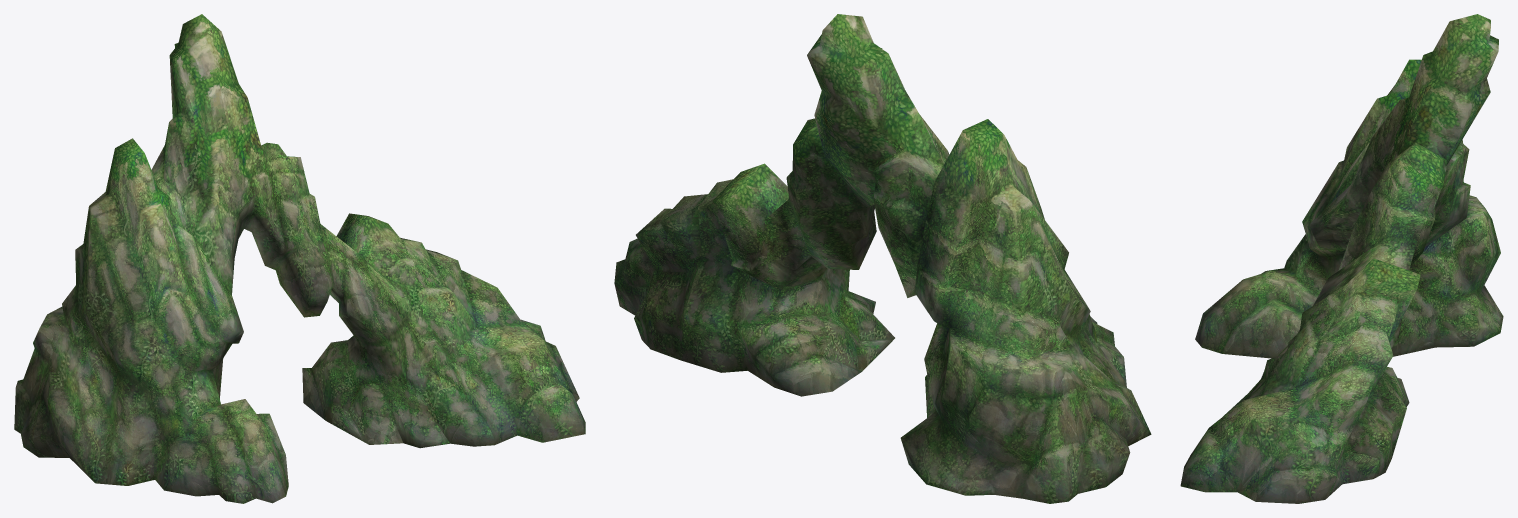
Rendered from stone44.FBX.
3 views of the same model, side by side, from view 1: azimuth 30°, elevation 25°; view 2: azimuth 150°, elevation 25°; view 3: azimuth 270°, elevation 25° (orthographic). The views are drawn at different scales.
Parts seen in each view (by area): view 1: stone44; view 2: stone44; view 3: stone44.
Part boxes in pixels (x1=…): stone44: x1=14, y1=14, x2=585, y2=503; stone44: x1=614, y1=14, x2=1151, y2=503; stone44: x1=1180, y1=14, x2=1503, y2=503.
Bounding box in the file's own units: 1502 × 1101 × 894.
